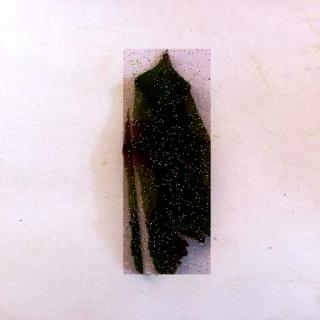Brown Blight: (124, 50, 212, 275)
